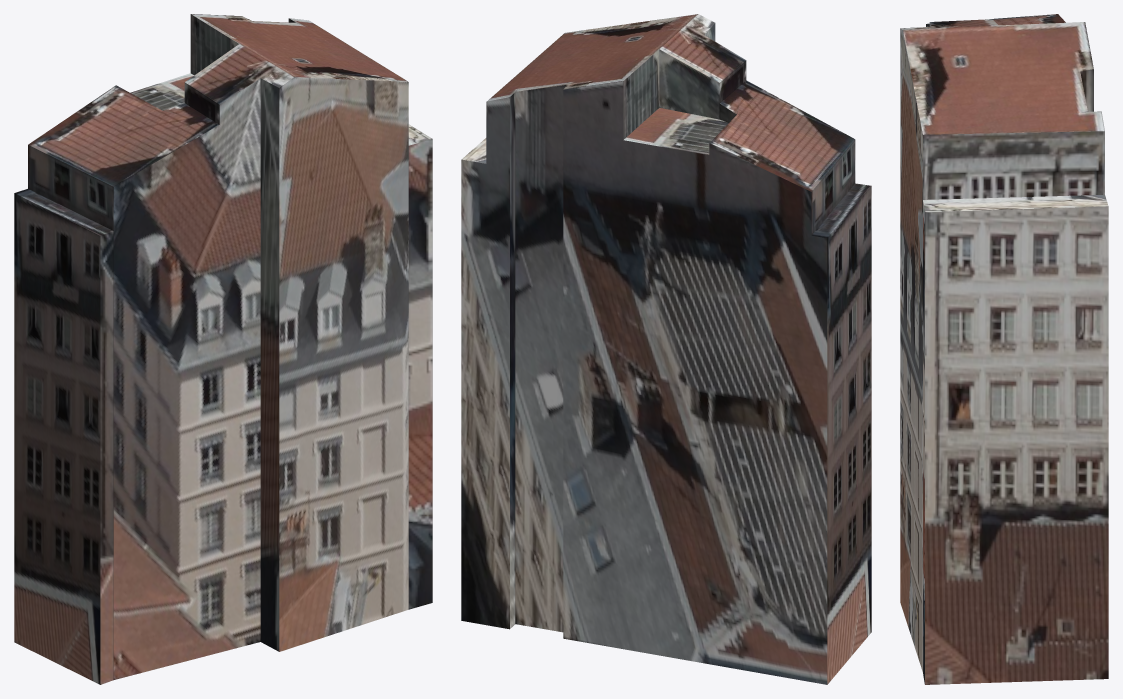
3 views of the same model, side by side, from view 1: azimuth 30°, elevation 25°; view 2: azimuth 150°, elevation 25°; view 3: azimuth 270°, elevation 25° (orthographic). The views are drawn at different scales.
Parts seen in each view (by area): view 1: Z_UP; view 2: Z_UP; view 3: Z_UP.
Part boxes in pixels (bbox=[...]): Z_UP: bbox=[14, 14, 432, 684]; Z_UP: bbox=[461, 14, 871, 684]; Z_UP: bbox=[900, 14, 1108, 684].
Size of the model in its own units: 18.99 by 29.26 by 9.49.
Materials: 2 (1 with a texture image).
